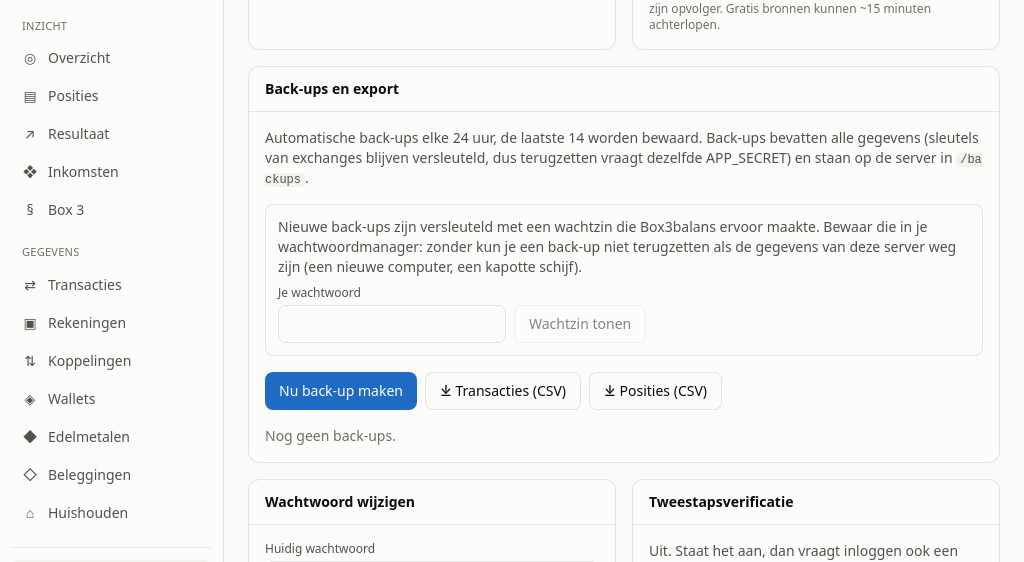
Scenario: Settings: security › shows the backup passphrase only after your password
(page scrolled)
Expected: the button "Wachtzin tonen" is disabled, x1=514 y1=305 x2=646 y2=343
Step 1. Type "correct horse battery" into the password field labelled "Je wachtwoord" → [392, 324], box x1=278 y1=305 x2=506 y2=343
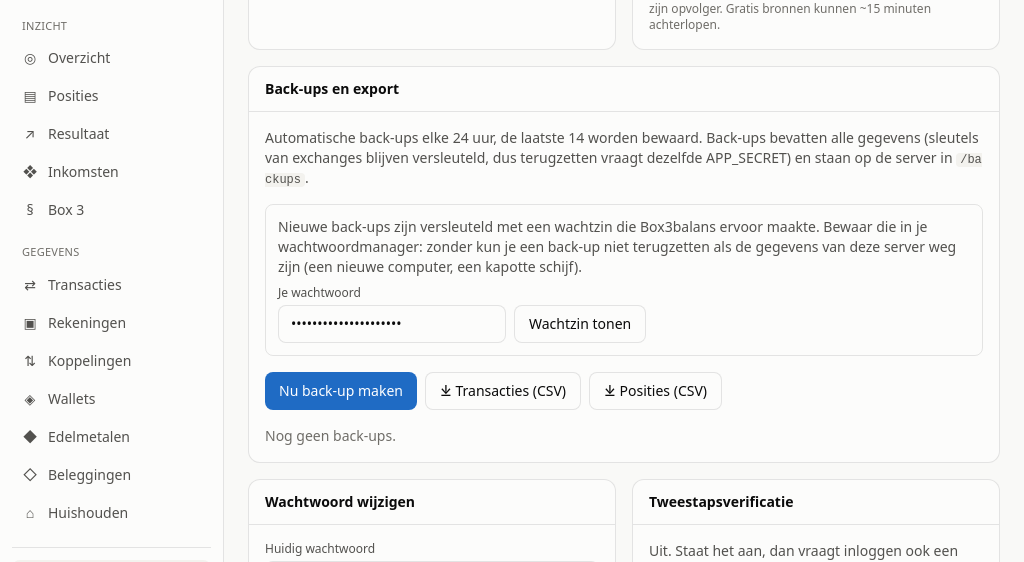
Step 2. Click the button "Wachtzin tonen" → [580, 324], box x1=514 y1=305 x2=646 y2=343
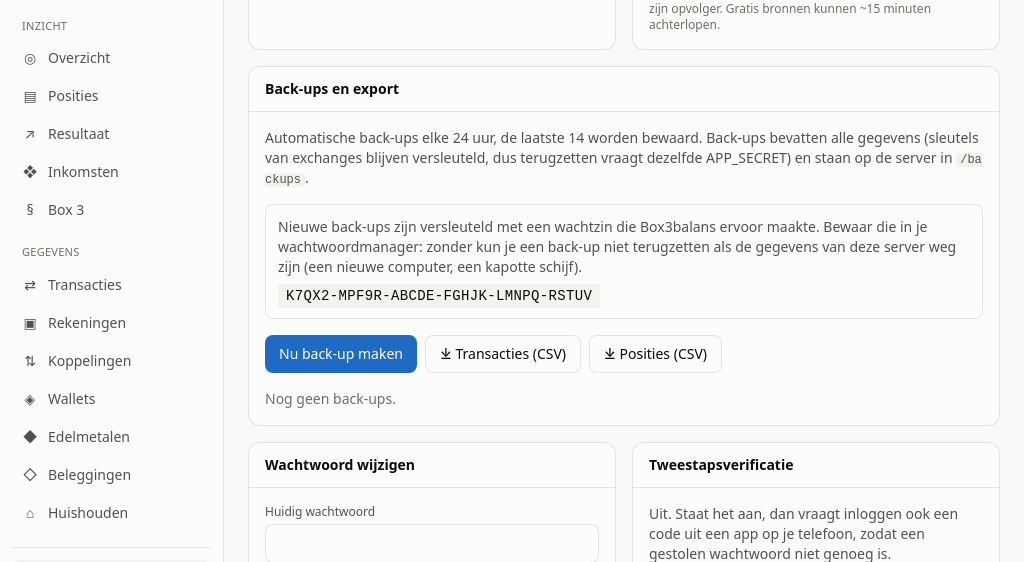
Result: the text "K7QX2-MPF9R-ABCDE-FGHJK-LMNPQ-RSTUV" is shown at x1=278 y1=284 x2=600 y2=308
